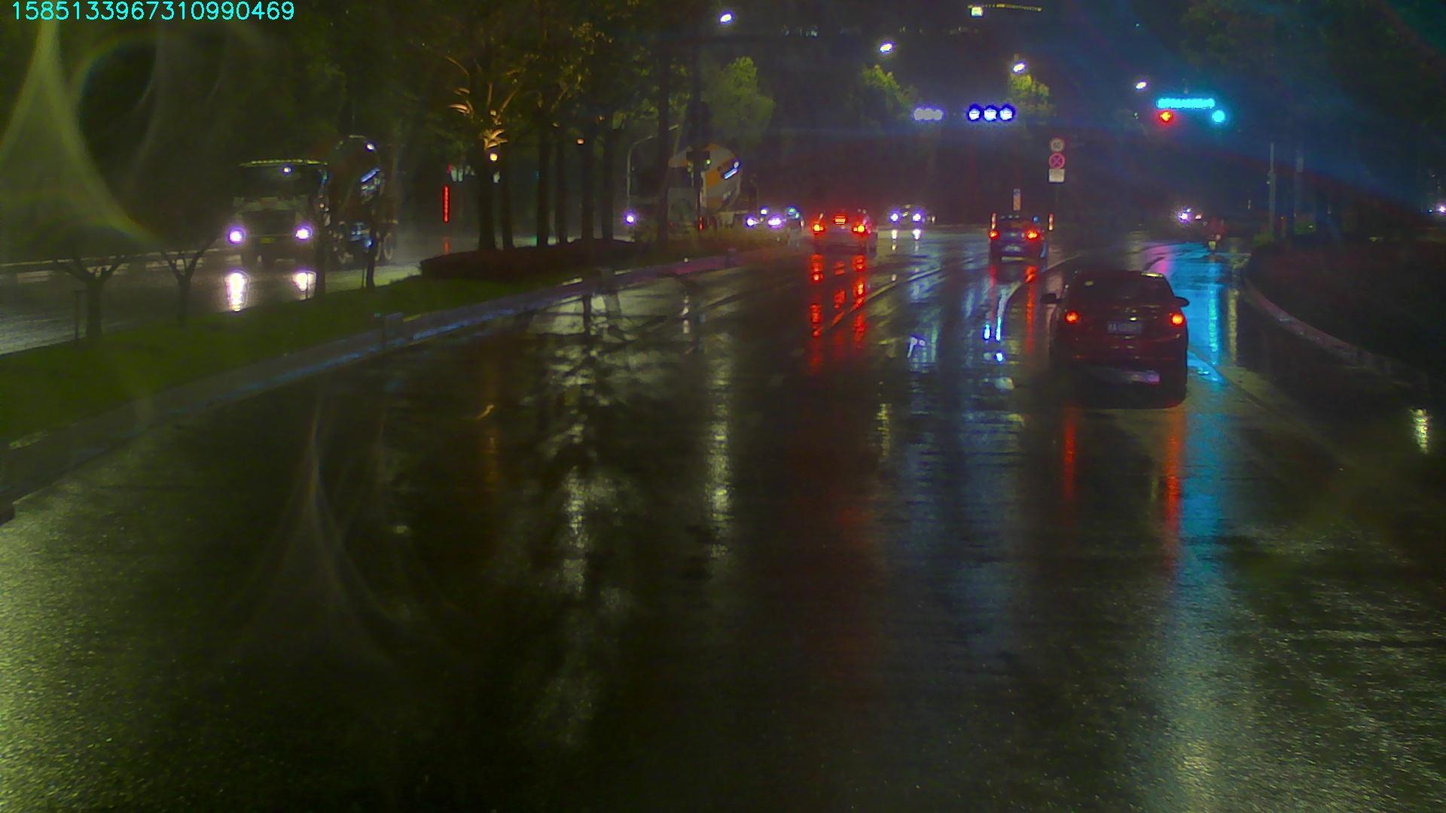green: (1210, 111, 1227, 124)
red: (1157, 107, 1176, 125)
wait_on: (1159, 89, 1222, 111)
